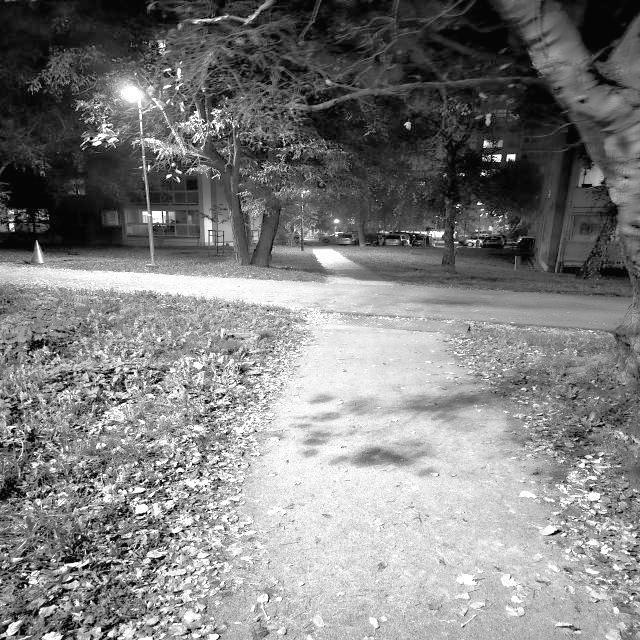Light: (121, 86, 162, 268)
